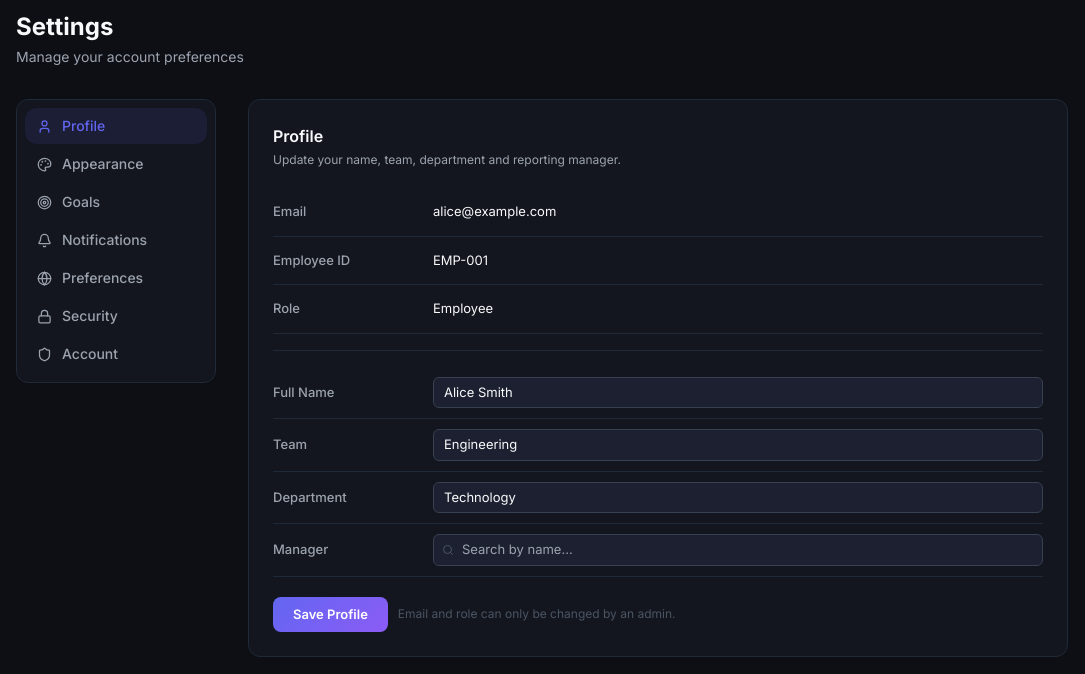
Test: SettingsPage — Appearance section › navigates to Appearance section on click
Step 1. Click the button "Appearance" → (116, 164), box [25,146,207,182]
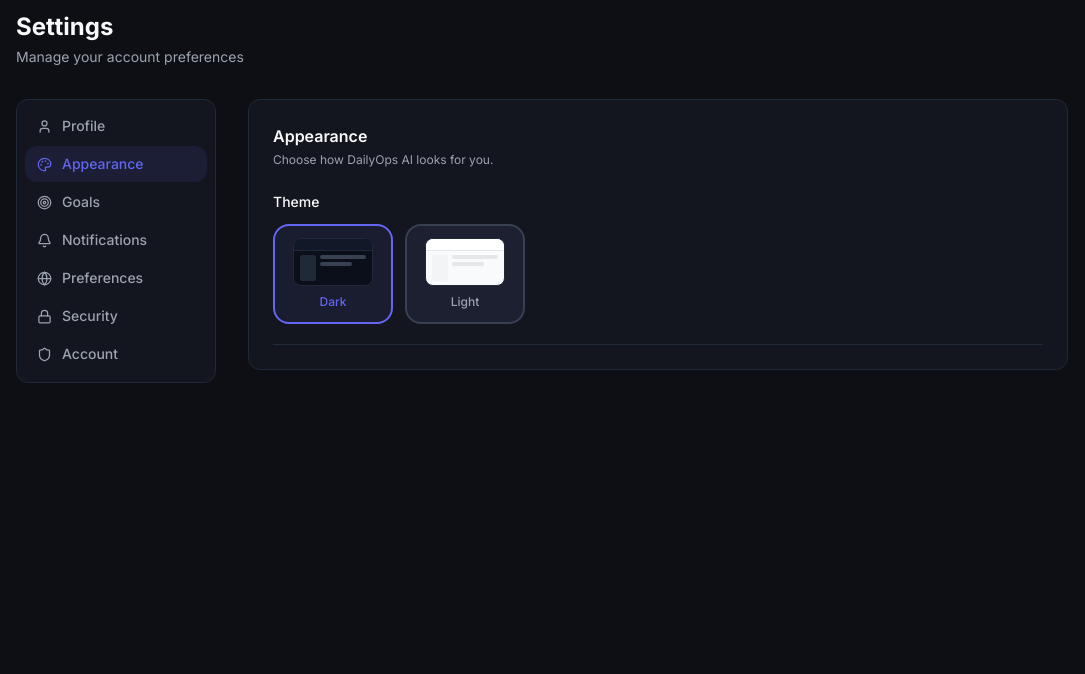
expect the text "Theme" is shown: met, box [273,193,320,210]
